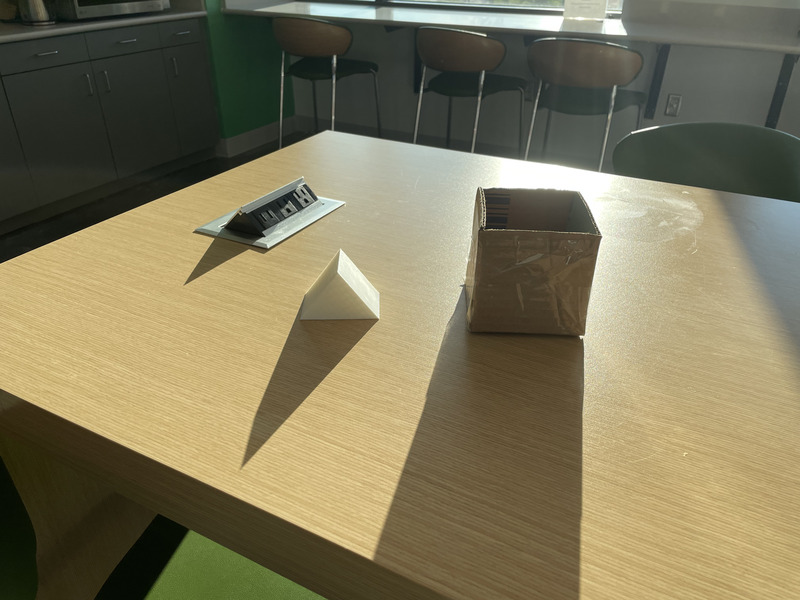payload2: (288, 244, 395, 328)
payload3: (461, 180, 606, 350)
